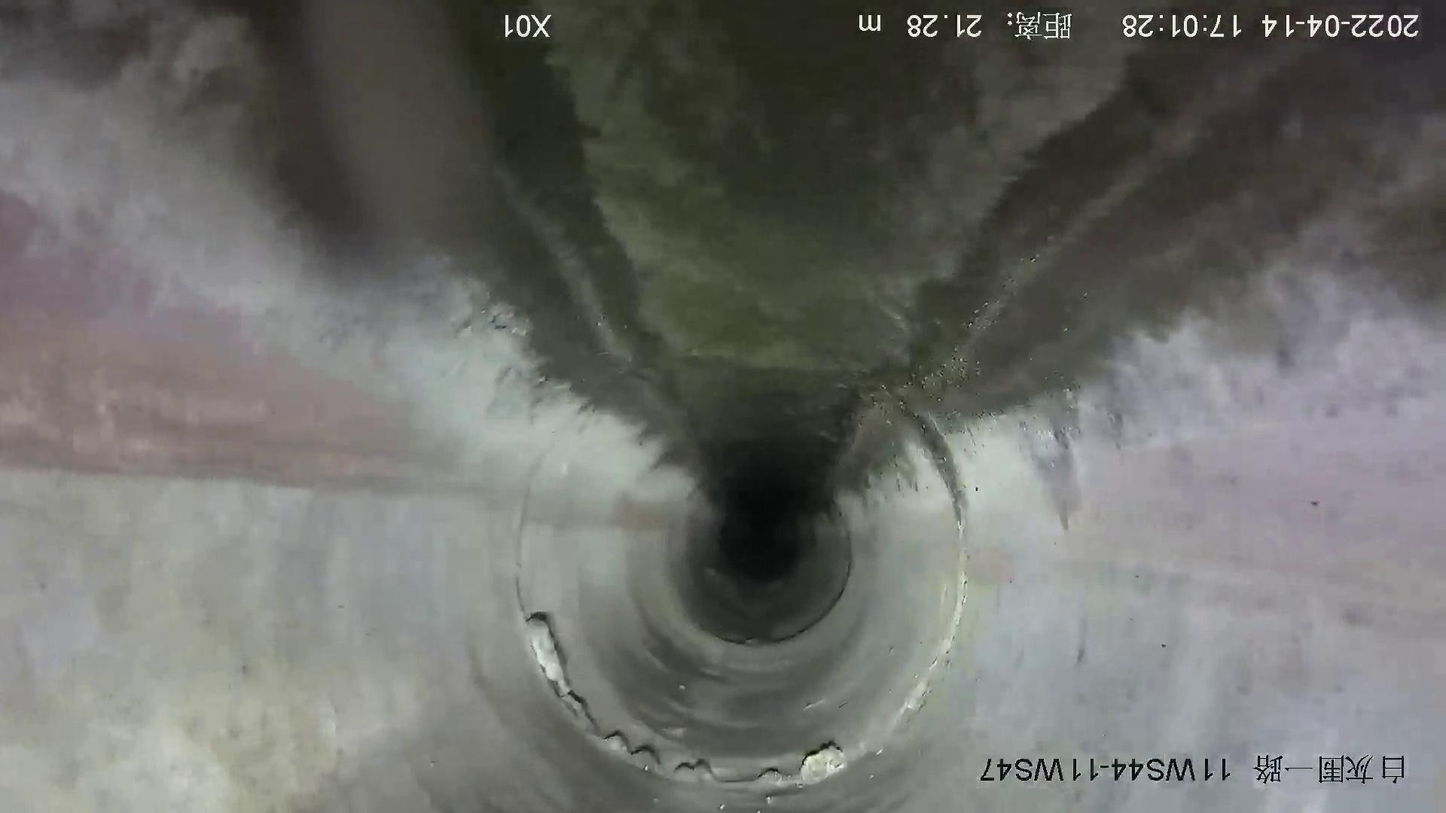JKCL: (507, 601, 871, 804)
